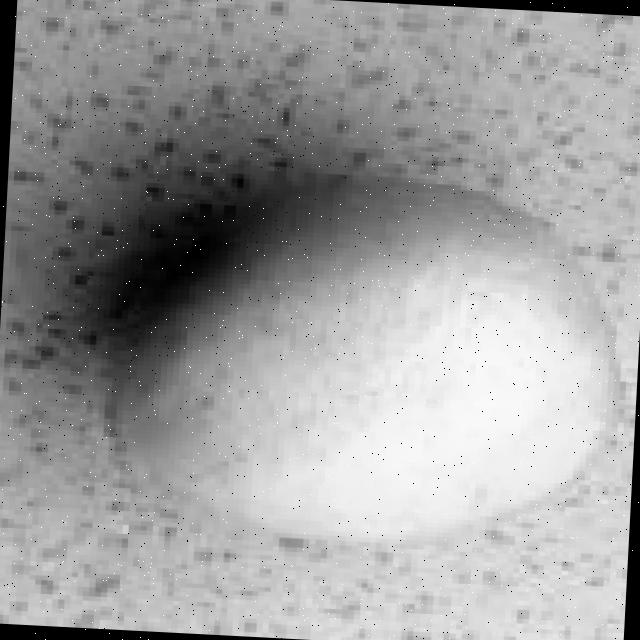Good_Lime-10-21-days: (103, 175, 623, 553)
